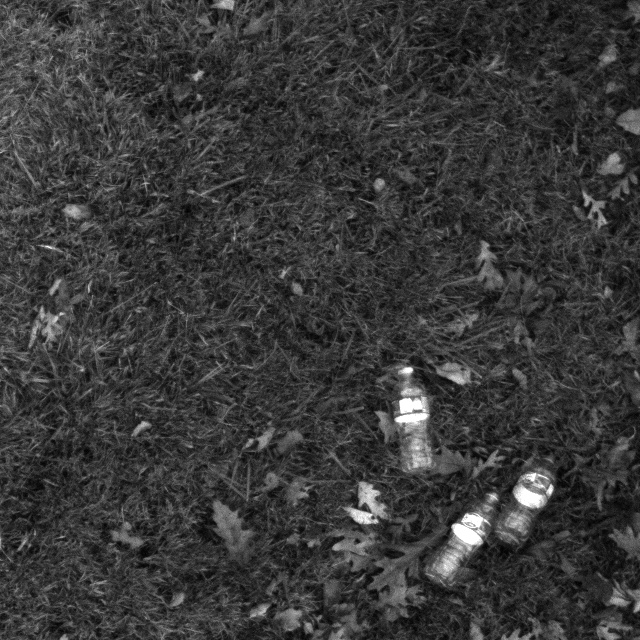bottle: (367, 348, 450, 481), (421, 481, 504, 584), (492, 457, 564, 543)
